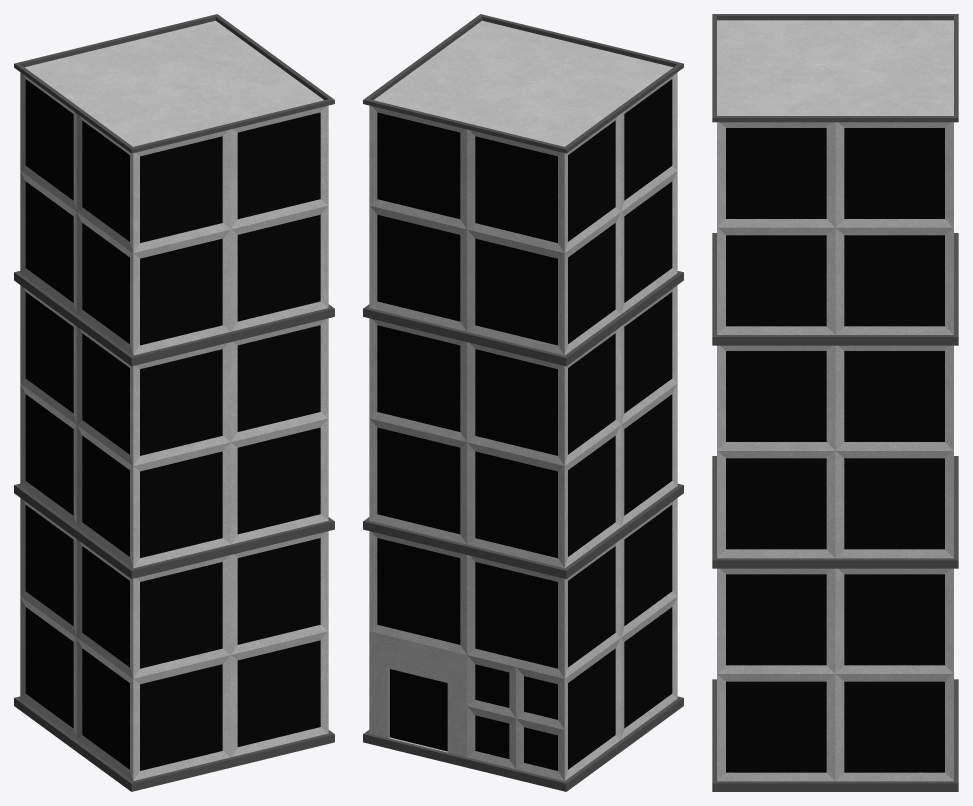
File: SkyScraper.fbx
3 renders of one model, left to right at view 1: azimuth 30°, elevation 25°; view 2: azimuth 150°, elevation 25°; view 3: azimuth 270°, elevation 25°, orthographic. The views are drawn at different scales.
Parts seen in each view (by area): view 1: Skyscraper; view 2: Skyscraper; view 3: Skyscraper.
Boxes of the visible parts, x1=… form: Skyscraper: x1=14, y1=14, x2=334, y2=791; Skyscraper: x1=363, y1=14, x2=683, y2=791; Skyscraper: x1=712, y1=14, x2=958, y2=791.
Bounding box in the file's own units: 5.2 × 15.7 × 5.2.
